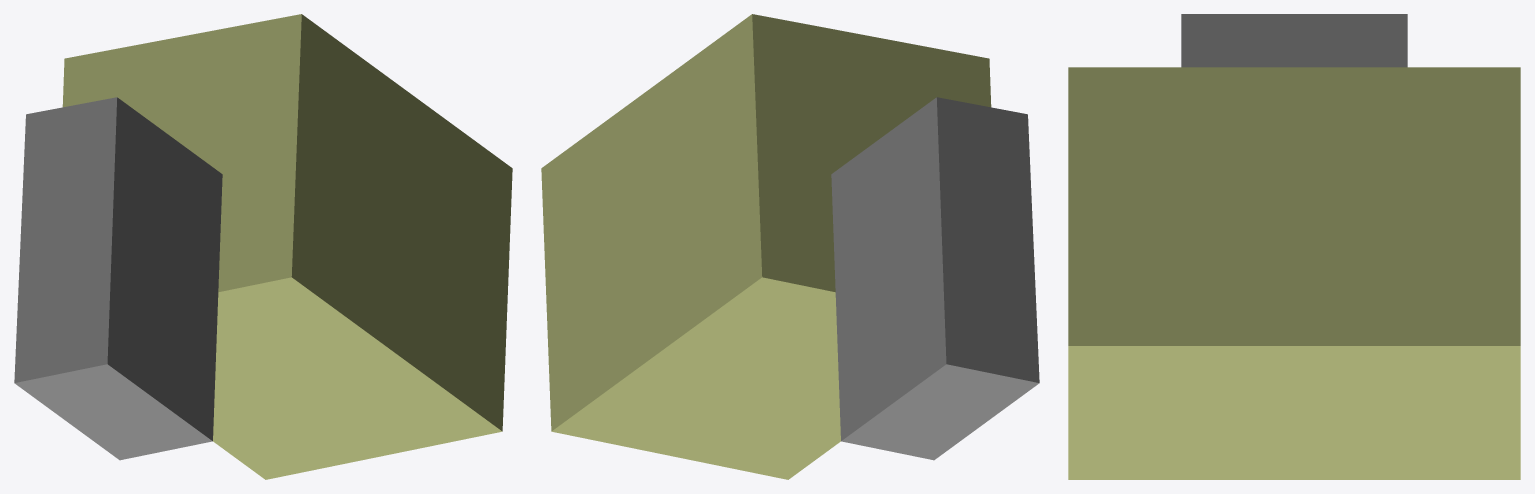
3 views of the same model, side by side, from view 1: azimuth 30°, elevation 25°; view 2: azimuth 150°, elevation 25°; view 3: azimuth 270°, elevation 25° (orthographic). The views are drawn at different scales.
Parts seen in each view (by area): view 1: 0_1_2_0_0_3_2_2_3_1_2; view 2: 0_1_2_0_0_3_2_2_3_1_2; view 3: 0_1_2_0_0_3_2_2_3_1_2.
Part boxes in pixels (bbox=[...]): 0_1_2_0_0_3_2_2_3_1_2: bbox=[14, 14, 512, 479]; 0_1_2_0_0_3_2_2_3_1_2: bbox=[541, 14, 1039, 479]; 0_1_2_0_0_3_2_2_3_1_2: bbox=[1068, 14, 1520, 479].
Bounding box in the file's own units: 5.59 × 4.38 × 6.
